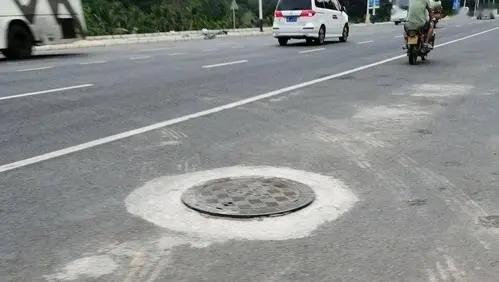wellcover: (185, 172, 323, 228)
